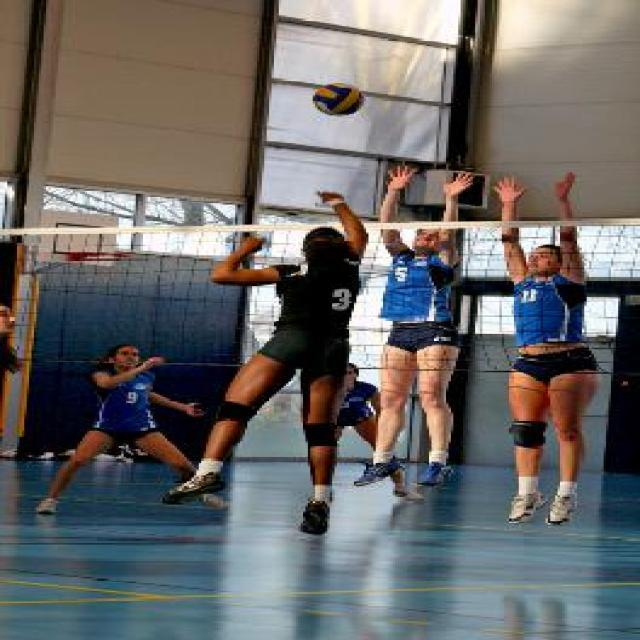volleyball: (312, 83, 363, 116)
